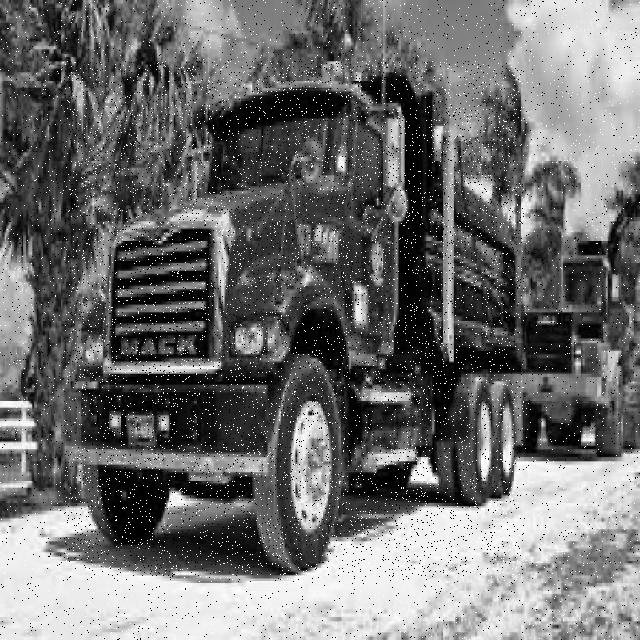Box Truck: (64, 61, 524, 576)
